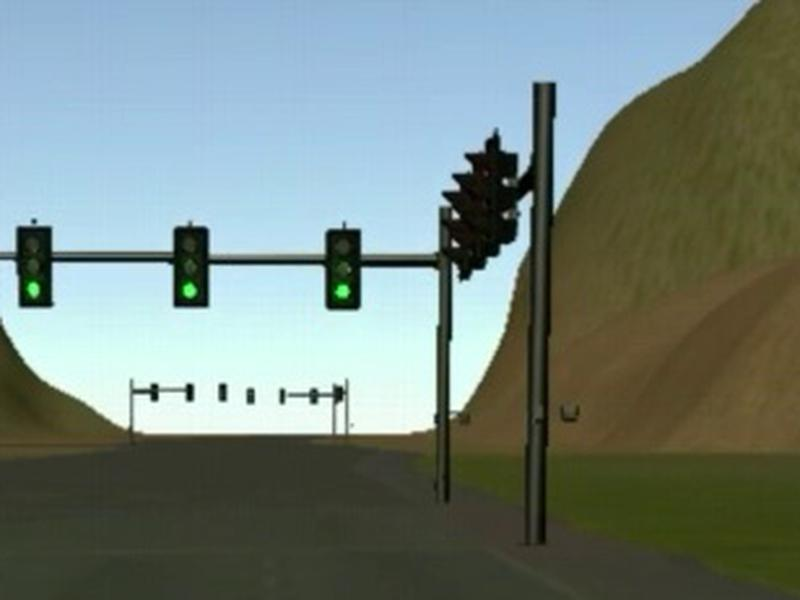Green: (15, 226, 53, 307), (326, 228, 361, 309), (173, 226, 208, 306)
